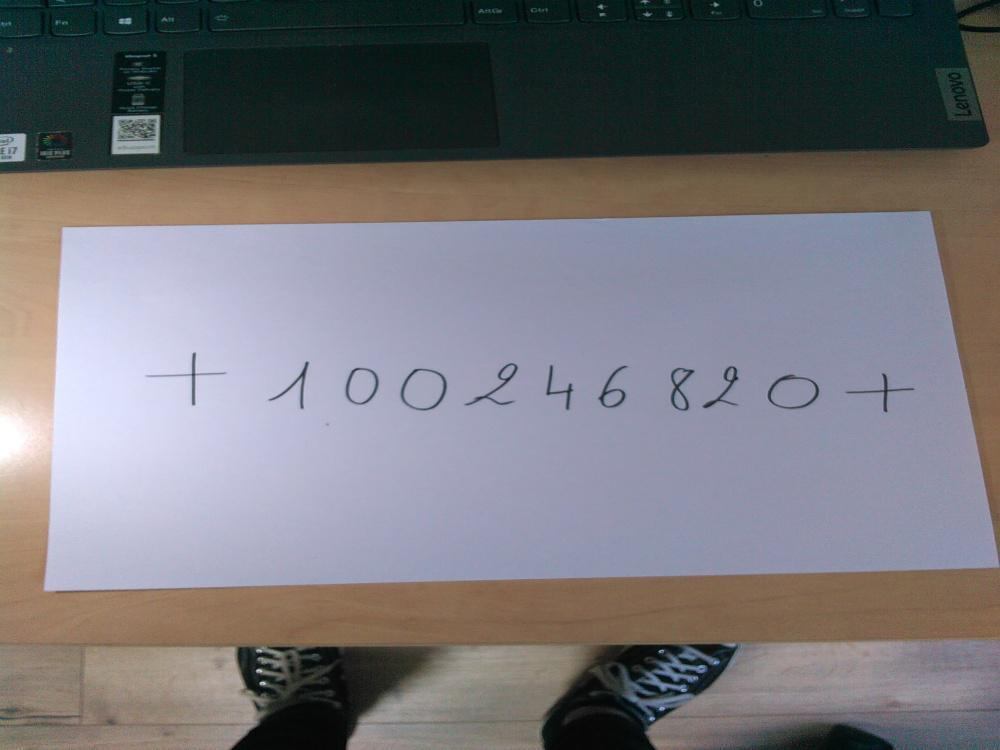+: (144, 350, 228, 404), (845, 370, 918, 418)
0: (401, 367, 448, 411), (766, 371, 818, 410), (346, 366, 380, 406)
1: (266, 359, 314, 410)
2: (468, 362, 519, 408), (702, 365, 744, 408)
4: (546, 362, 574, 414)
6: (598, 361, 628, 412)
8: (667, 364, 696, 410)
